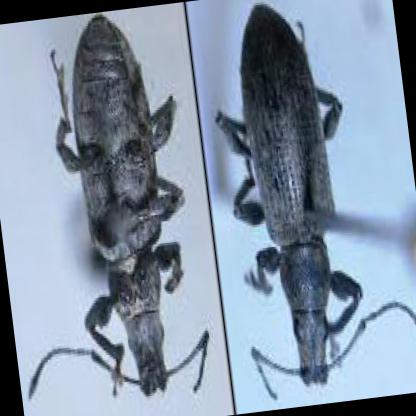ash weevil: (29, 15, 208, 400), (216, 4, 363, 384)
